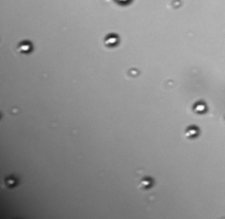Living Cell: (2, 175, 19, 188), (18, 40, 32, 54), (105, 33, 119, 47), (185, 124, 199, 137), (193, 101, 208, 113), (139, 177, 153, 188), (128, 68, 140, 77)
